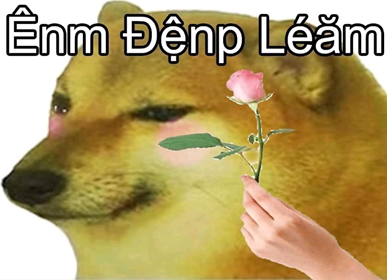dog: (6, 5, 339, 238)
